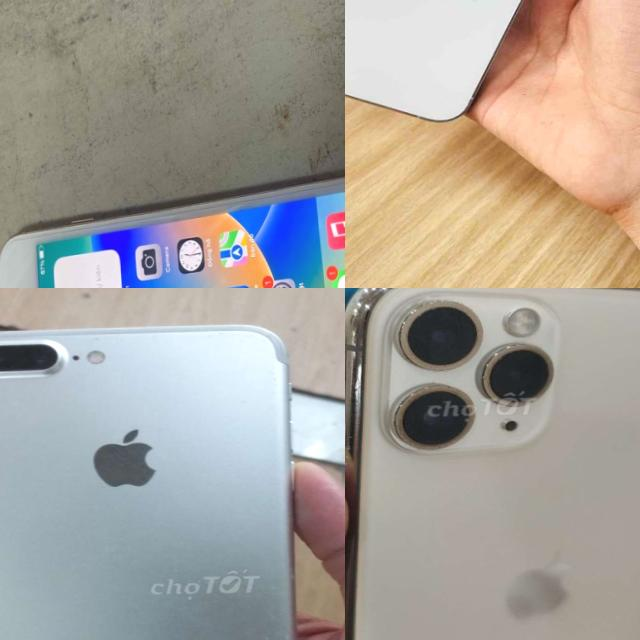gen_11: (345, 288, 640, 640)
gen_12_13: (345, 0, 610, 127)
gen_7_8: (0, 325, 295, 640), (0, 157, 345, 288)
scratch: (348, 288, 629, 432), (194, 324, 266, 350), (249, 602, 296, 640), (266, 376, 304, 398), (70, 331, 113, 346)
